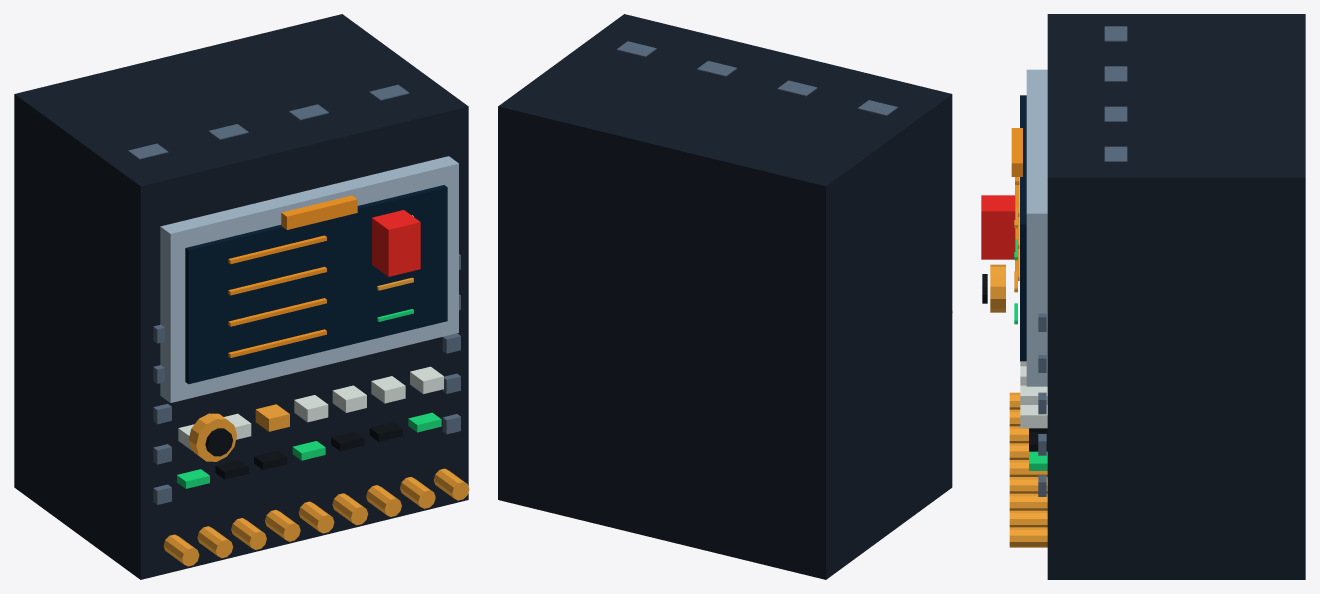
Rendered from 26_L88_CO2BreakthroughFaultInjector.fbx.
3 views of the same model, side by side, from view 1: azimuth 30°, elevation 25°; view 2: azimuth 150°, elevation 25°; view 3: azimuth 270°, elevation 25° (orthographic). The views are drawn at different scales.
Parts seen in each view (by area): view 1: L87_CO2BreakthroughFaultInjector_Part_0000, L87_CO2BreakthroughFaultInjector_Part_0002, L87_CO2BreakthroughFaultInjector_Part_0001, L87_CO2BreakthroughFaultInjector_Part_0004, L87_CO2BreakthroughFaultInjector_Part_0008, L87_CO2BreakthroughFaultInjector_Part_0006, L87_CO2BreakthroughFaultInjector_Part_0009, L87_CO2BreakthroughFaultInjector_Part_0003, L87_CO2BreakthroughFaultInjector_Part_0007, L87_CO2BreakthroughFaultInjector_Part_0005, L87_CO2BreakthroughFaultInjector_Part_0010, L87_CO2BreakthroughFaultInjector_Part_0011 (+1 smaller); view 2: L87_CO2BreakthroughFaultInjector_Part_0000, L87_CO2BreakthroughFaultInjector_Part_0008; view 3: L87_CO2BreakthroughFaultInjector_Part_0000, L87_CO2BreakthroughFaultInjector_Part_0001, L87_CO2BreakthroughFaultInjector_Part_0004, L87_CO2BreakthroughFaultInjector_Part_0008, L87_CO2BreakthroughFaultInjector_Part_0009, L87_CO2BreakthroughFaultInjector_Part_0002, L87_CO2BreakthroughFaultInjector_Part_0006, L87_CO2BreakthroughFaultInjector_Part_0011, L87_CO2BreakthroughFaultInjector_Part_0010, L87_CO2BreakthroughFaultInjector_Part_0005.
Part boxes in pixels (x1,y1,x2,y2): L87_CO2BreakthroughFaultInjector_Part_0000: [14, 14, 468, 579]; L87_CO2BreakthroughFaultInjector_Part_0002: [185, 185, 447, 384]; L87_CO2BreakthroughFaultInjector_Part_0001: [160, 156, 458, 402]; L87_CO2BreakthroughFaultInjector_Part_0004: [163, 215, 469, 566]; L87_CO2BreakthroughFaultInjector_Part_0008: [128, 84, 460, 504]; L87_CO2BreakthroughFaultInjector_Part_0006: [178, 366, 443, 450]; L87_CO2BreakthroughFaultInjector_Part_0009: [372, 210, 420, 276]; L87_CO2BreakthroughFaultInjector_Part_0003: [228, 235, 326, 357]; L87_CO2BreakthroughFaultInjector_Part_0007: [215, 422, 402, 479]; L87_CO2BreakthroughFaultInjector_Part_0005: [177, 309, 441, 488]; L87_CO2BreakthroughFaultInjector_Part_0010: [281, 195, 357, 229]; L87_CO2BreakthroughFaultInjector_Part_0011: [188, 413, 236, 461]; L87_CO2BreakthroughFaultInjector_Part_0000: [498, 14, 952, 579]; L87_CO2BreakthroughFaultInjector_Part_0008: [616, 41, 897, 115]; L87_CO2BreakthroughFaultInjector_Part_0000: [1047, 14, 1305, 579]; L87_CO2BreakthroughFaultInjector_Part_0001: [1026, 69, 1047, 386]; L87_CO2BreakthroughFaultInjector_Part_0004: [1009, 207, 1047, 547]; L87_CO2BreakthroughFaultInjector_Part_0008: [1038, 26, 1127, 496]; L87_CO2BreakthroughFaultInjector_Part_0009: [981, 195, 1015, 259]; L87_CO2BreakthroughFaultInjector_Part_0002: [1020, 95, 1026, 361]; L87_CO2BreakthroughFaultInjector_Part_0006: [1020, 361, 1047, 428]; L87_CO2BreakthroughFaultInjector_Part_0011: [990, 264, 1005, 312]; L87_CO2BreakthroughFaultInjector_Part_0010: [1011, 128, 1022, 176]; L87_CO2BreakthroughFaultInjector_Part_0005: [1014, 239, 1047, 470].
Bounding box in the file's own units: 104 × 120 × 87.21.
